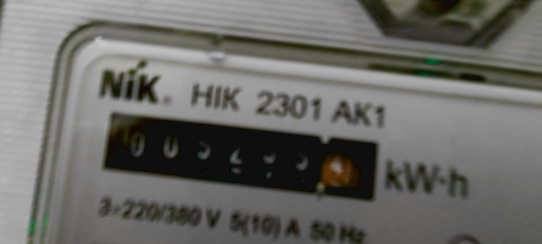0: (159, 127, 183, 162), (127, 127, 149, 160)
2: (225, 132, 250, 169)
3: (257, 134, 285, 170)
4: (325, 143, 351, 182)
5: (290, 138, 316, 176), (193, 129, 216, 165)
screen: (85, 93, 395, 218)
